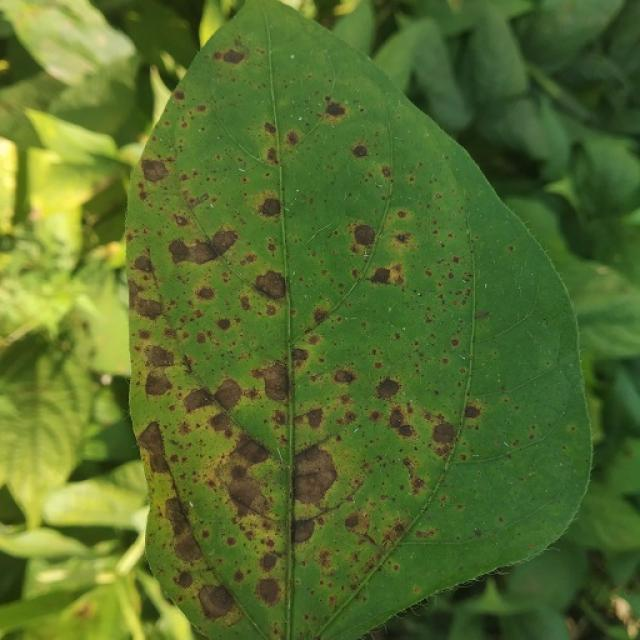Anthracnose: (455, 343, 577, 462), (169, 229, 286, 339), (400, 218, 467, 299), (218, 437, 278, 520), (336, 513, 402, 580), (359, 216, 424, 282), (163, 497, 208, 567), (291, 443, 340, 507), (127, 266, 164, 319), (136, 421, 172, 474), (345, 220, 386, 260), (252, 185, 290, 227), (227, 434, 271, 470), (168, 235, 219, 266), (254, 362, 291, 404), (298, 305, 342, 340), (198, 582, 237, 620), (213, 377, 245, 412), (386, 406, 418, 440), (183, 387, 214, 415), (144, 369, 173, 398), (255, 576, 283, 606), (344, 509, 373, 537), (210, 228, 239, 255), (144, 344, 175, 369), (140, 158, 170, 183), (431, 422, 456, 448), (292, 518, 316, 544), (375, 377, 401, 400), (209, 410, 233, 433), (301, 407, 324, 430), (220, 47, 246, 65), (73, 601, 95, 621), (324, 99, 347, 118), (185, 192, 209, 209), (133, 254, 153, 273), (260, 551, 278, 571), (333, 368, 355, 384), (181, 355, 195, 376), (463, 403, 481, 419), (196, 286, 215, 301), (284, 130, 300, 147), (410, 477, 425, 494), (351, 144, 368, 158), (265, 147, 278, 164), (394, 232, 412, 244), (174, 214, 188, 227), (233, 569, 245, 583), (264, 122, 277, 134), (173, 89, 185, 101), (381, 166, 392, 178), (225, 536, 236, 547), (267, 242, 276, 253), (196, 104, 207, 112), (473, 527, 482, 536), (397, 210, 407, 218), (451, 338, 459, 347), (374, 361, 383, 369), (507, 245, 514, 252)
Blackgram: (124, 0, 590, 639)
